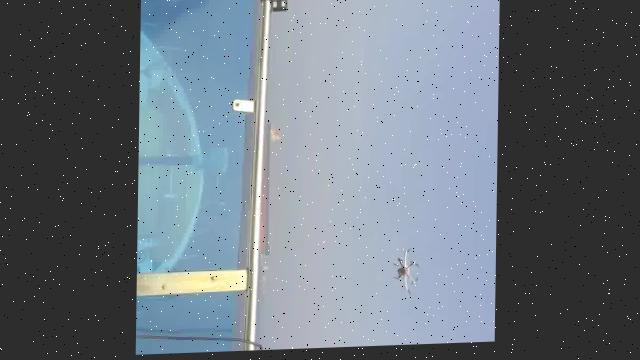drone: (392, 250, 423, 298)
